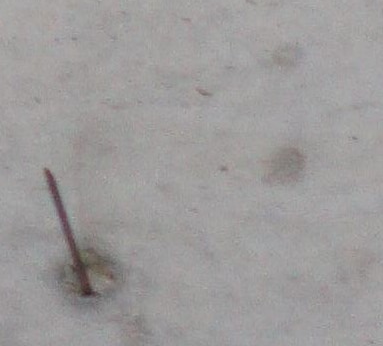Exposed reinforcement: (43, 167, 93, 293)
Spalling: (59, 248, 116, 301)
